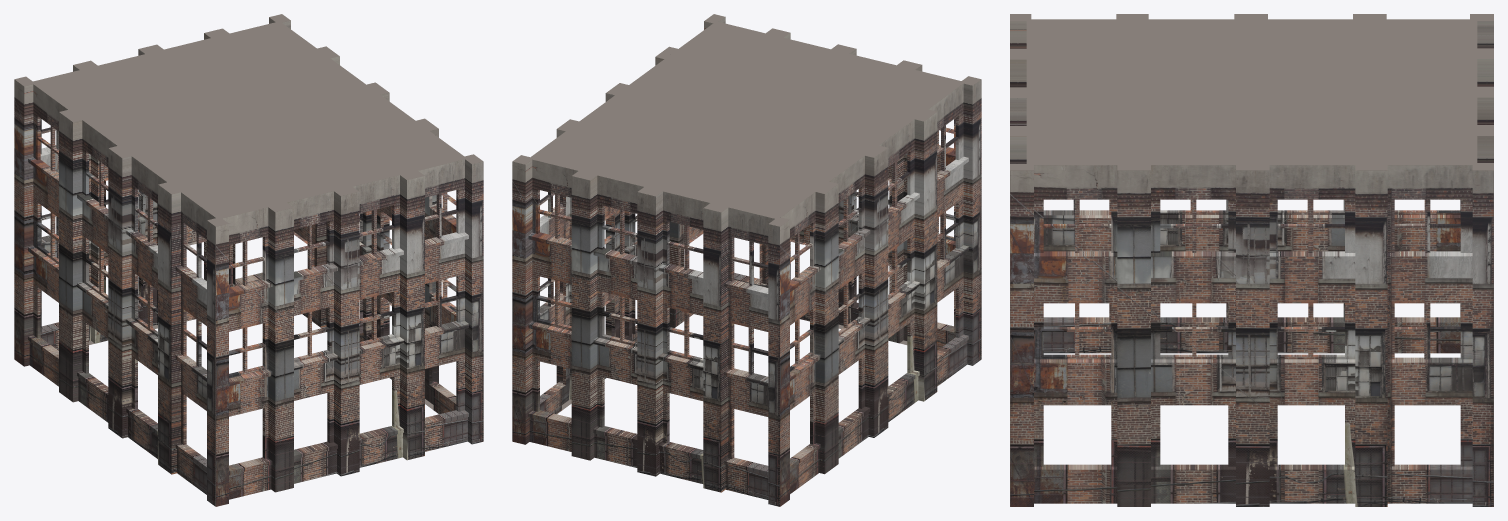
The model's file is RightBuilding.obj.
3 renders of one model, left to right at view 1: azimuth 30°, elevation 25°; view 2: azimuth 150°, elevation 25°; view 3: azimuth 270°, elevation 25°, orthographic. The views are drawn at different scales.
Parts seen in each view (by area): view 1: Object_4; view 2: Object_4; view 3: Object_4.
Part boxes in pixels (x1,y1,x2,y2): Object_4: (14, 14, 483, 506); Object_4: (512, 14, 981, 506); Object_4: (1010, 14, 1493, 506).
Size of the model in its own units: 12 by 12 by 15.65.
